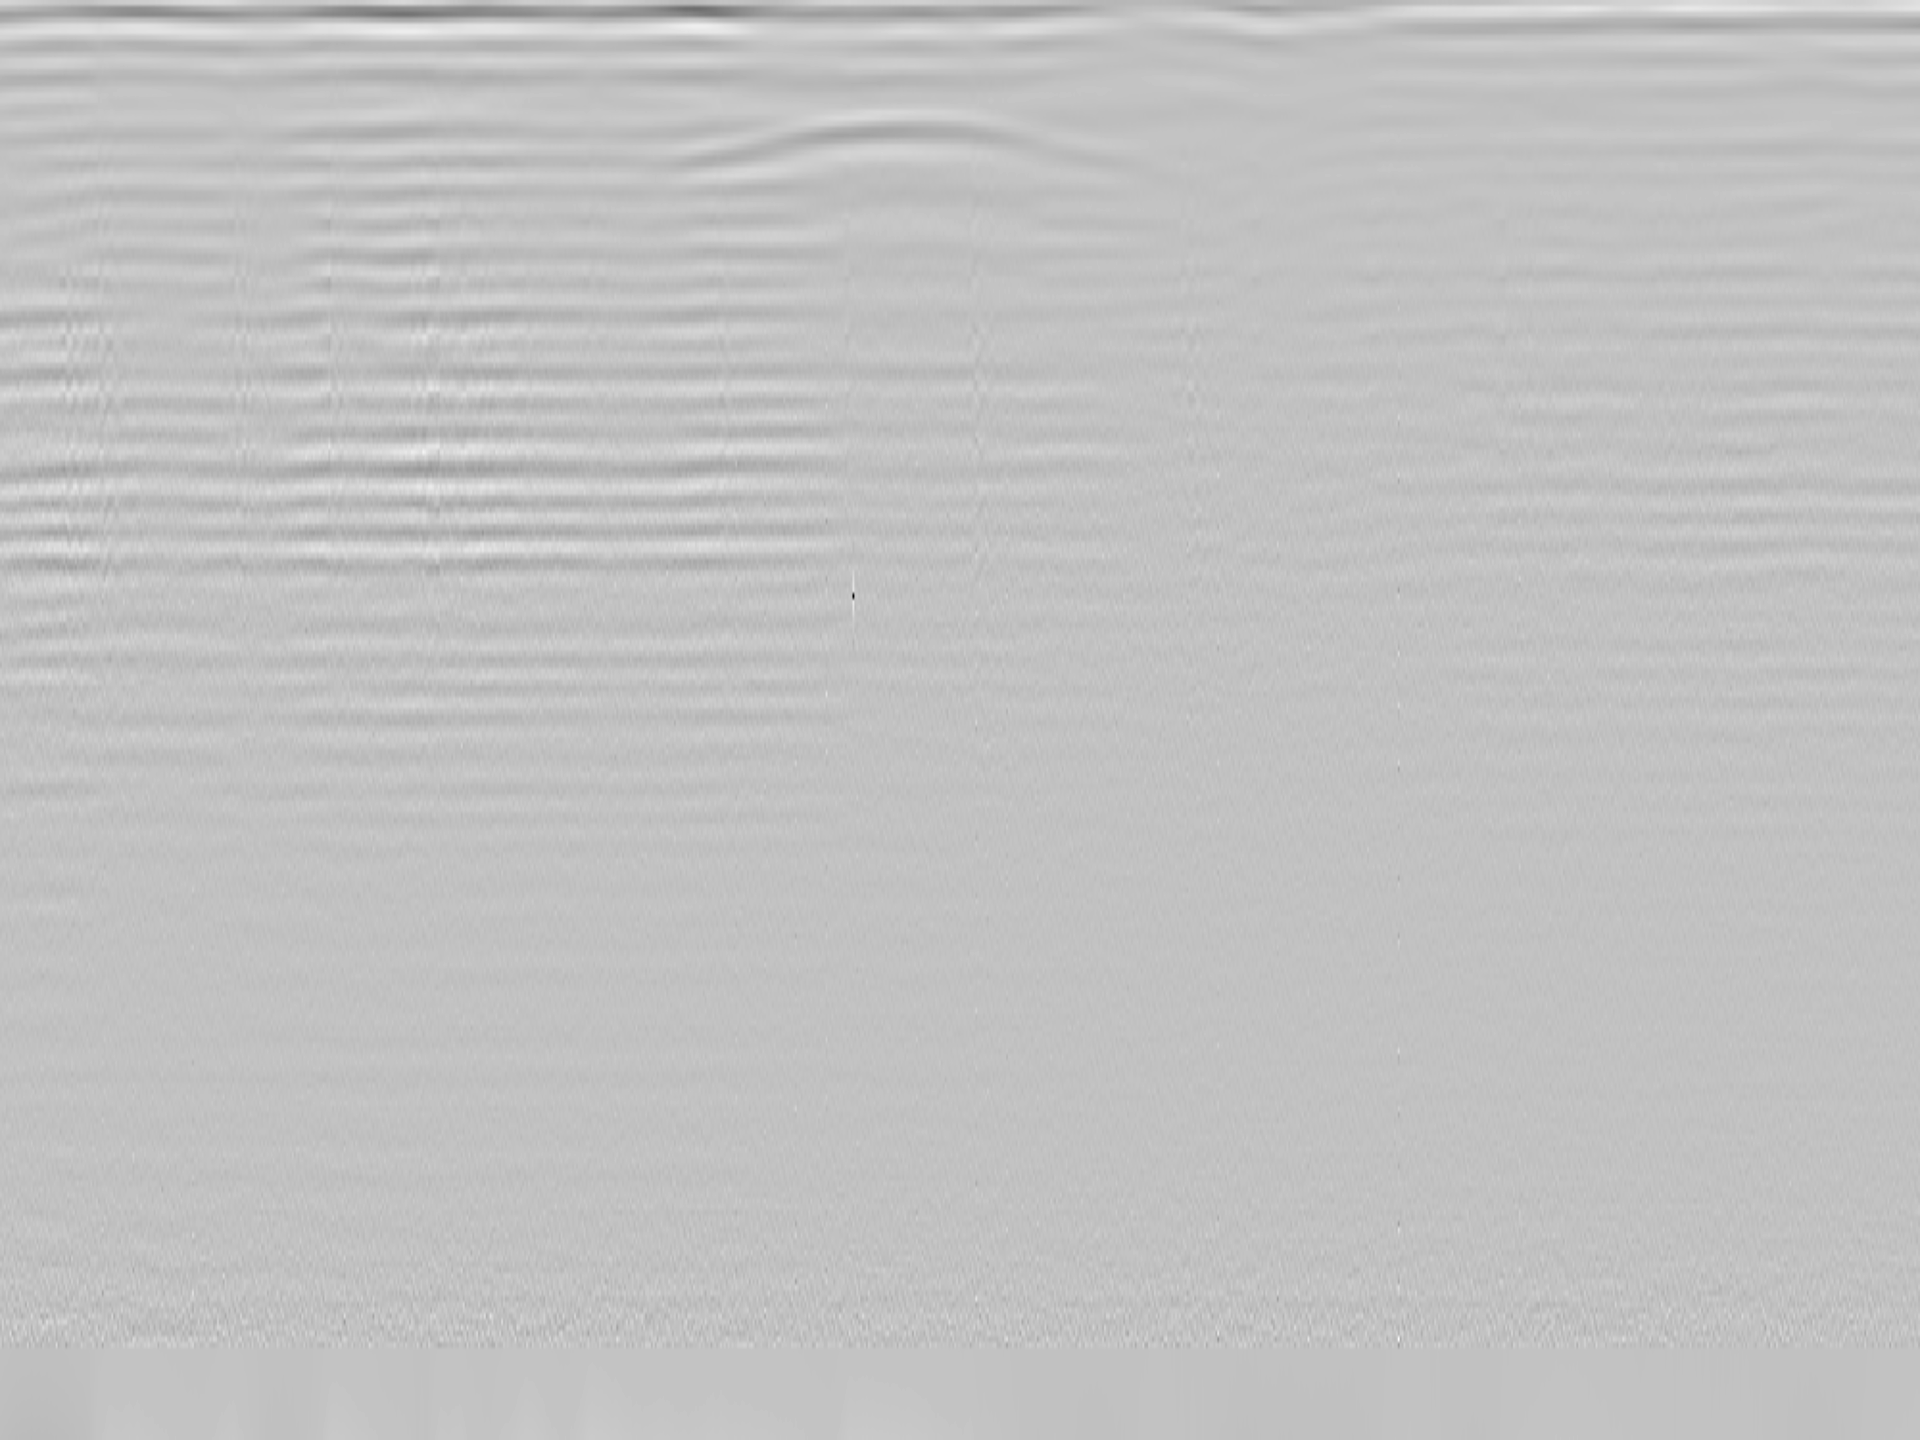Tunnel: (652, 112, 1169, 175)
